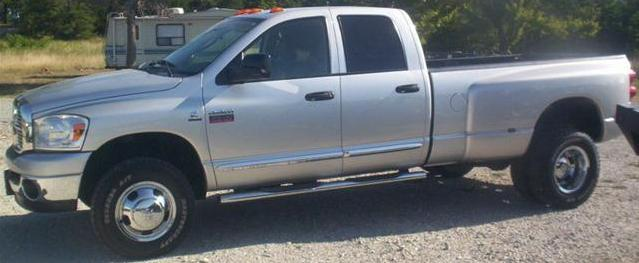front_view: (10, 97, 99, 211)
headlight: (18, 107, 103, 158)
side_glass: (212, 16, 418, 82)
